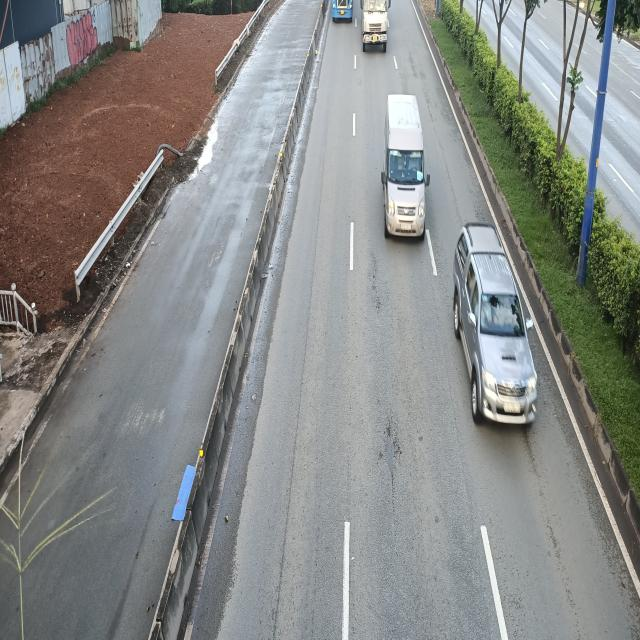car: (452, 226, 538, 429)
van: (380, 94, 428, 240)
